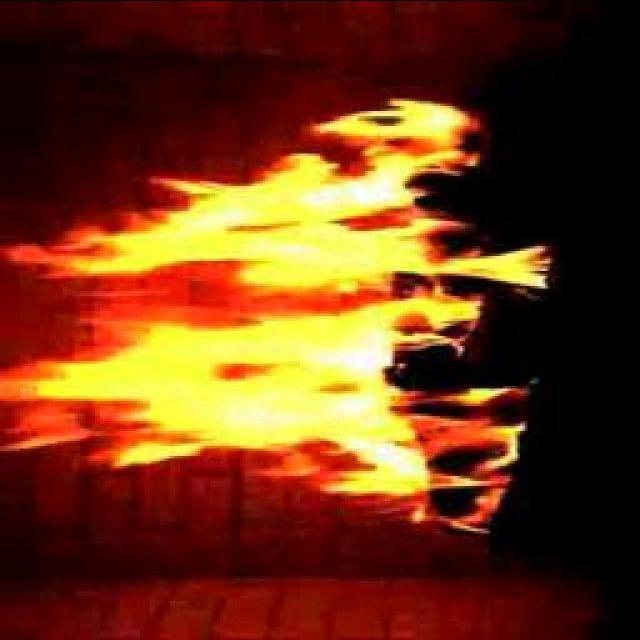Fire: (25, 108, 459, 486)
